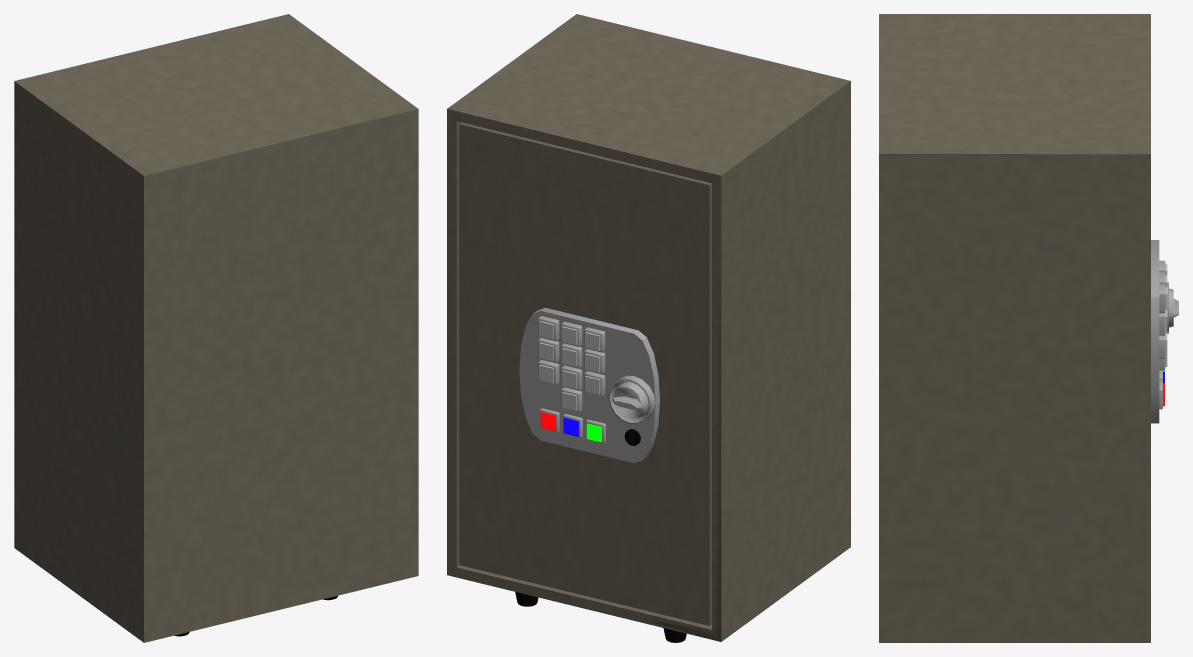
File: safe_parts2.fbx
3 renders of one model, left to right at view 1: azimuth 30°, elevation 25°; view 2: azimuth 150°, elevation 25°; view 3: azimuth 270°, elevation 25°, orthographic. The views are drawn at different scales.
Parts seen in each view (by area): view 1: Cube.002; view 2: Cube.002, Cube; view 3: Cube.002, Cube.
Boxes of the visible parts, x1,y1,x2,y2 form: Cube.002: [14, 14, 418, 642]; Cube.002: [447, 14, 850, 641]; Cube: [459, 122, 711, 626]; Cube.002: [879, 14, 1150, 642]; Cube: [1151, 240, 1178, 423].
Bounding box in the file's own units: 54.98 × 94.07 × 49.64.
